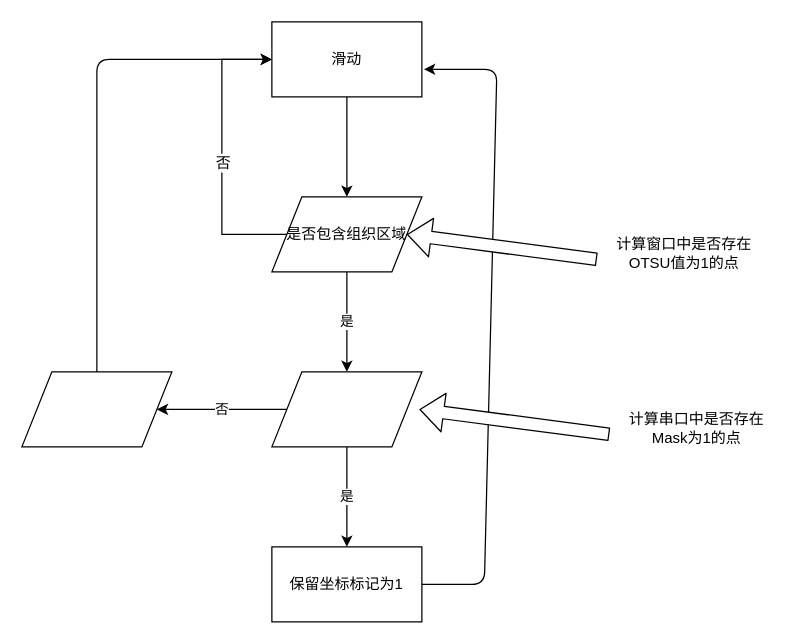
Image size: 794x644. Some labels were removed from this diagram. Here are the shapes that lost their labels. From the top down, the centre of each, then its label:
the point at 96,409: 保留坐标标记为0
the point at 346,409: 是否带有肿瘤标记
